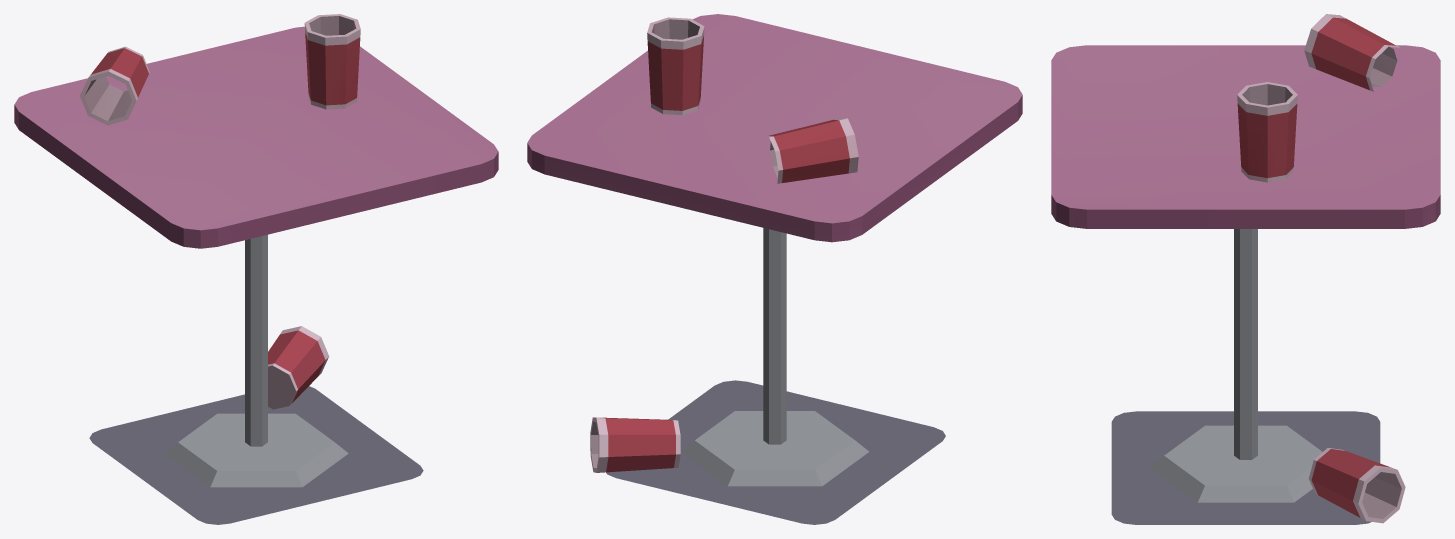
The model's file is table.glb.
3 views of the same model, side by side, from view 1: azimuth 30°, elevation 25°; view 2: azimuth 150°, elevation 25°; view 3: azimuth 270°, elevation 25° (orthographic). The views are drawn at different scales.
Visible parts, largest first — view 1: table; view 2: table; view 3: table.
Part boxes in pixels (<box>): table: <box>14,14,498,524</box>; table: <box>527,14,1022,524</box>; table: <box>1051,14,1440,524</box>.
Bounding box in the file's own units: 7.4 × 8.75 × 7.4.
